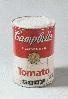grozi_88: (11, 15, 56, 88)
